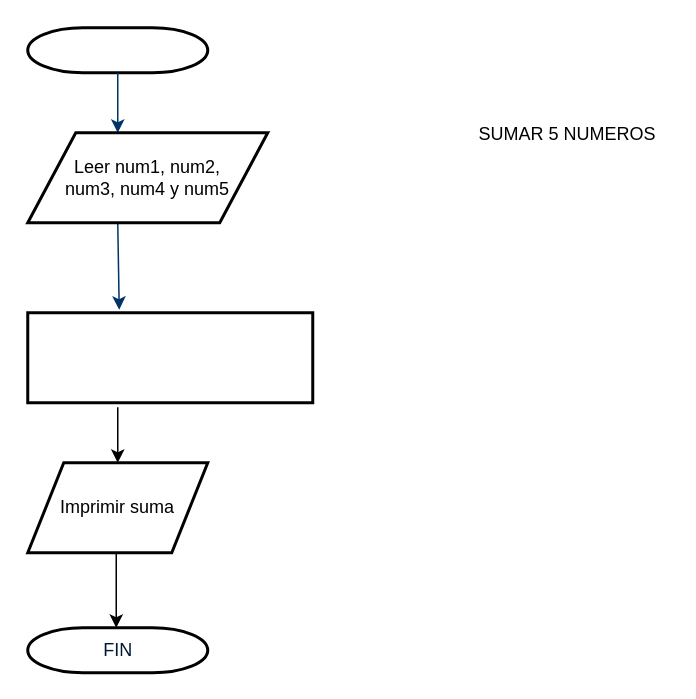
The diagram is 696 pixels wide and 699 high, and some of its shapes have lost their labels. The shapes that lost their labels are listed below. From the top down, each one's box as (x1, y1, x2, y2) in pixels, then its label:
(26, 26, 208, 74): INICIO
(26, 310, 314, 404): suma= num1 + num2 + num3 + num4 + num5
